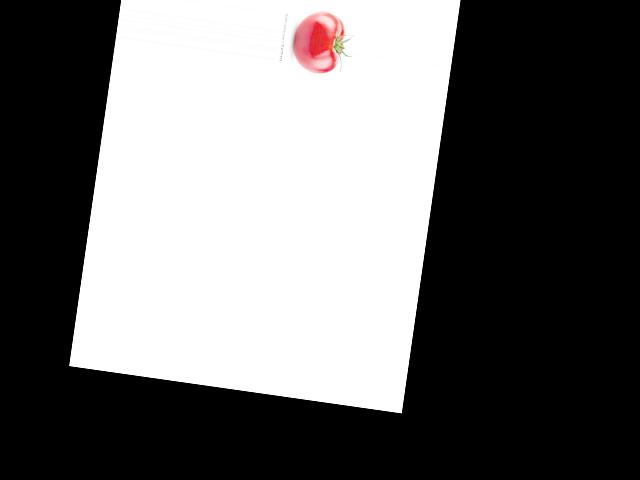tomato: (290, 8, 346, 76)
